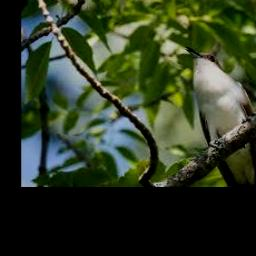Cuckoo: (184, 46, 256, 187)
